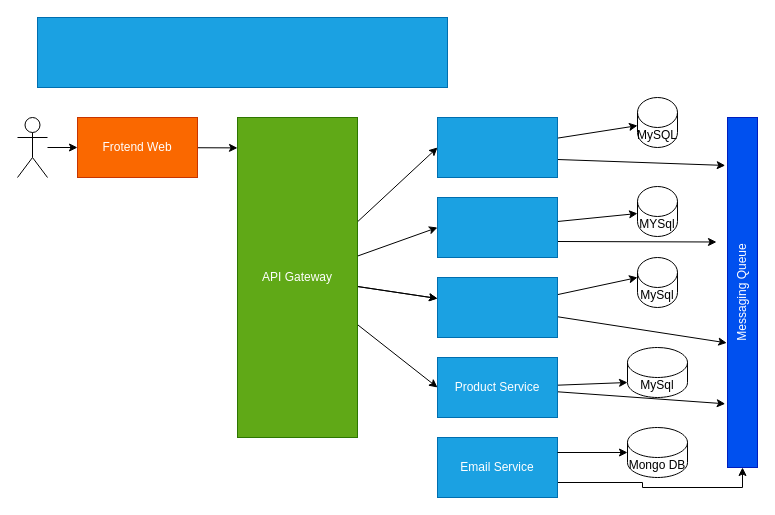
The diagram is 775 pixels wide and 515 high, and some of its shapes have lost their labels. The shapes that lost their labels are listed below. From the top down, each one's centre as x and y in pixels, then its label:
At point 242,52: "Microservice Architecture".
At point 32,147: "Actor".
At point 497,147: "User Service".
At point 497,227: "Supplier Management Service".
At point 497,307: "Auction Service".
